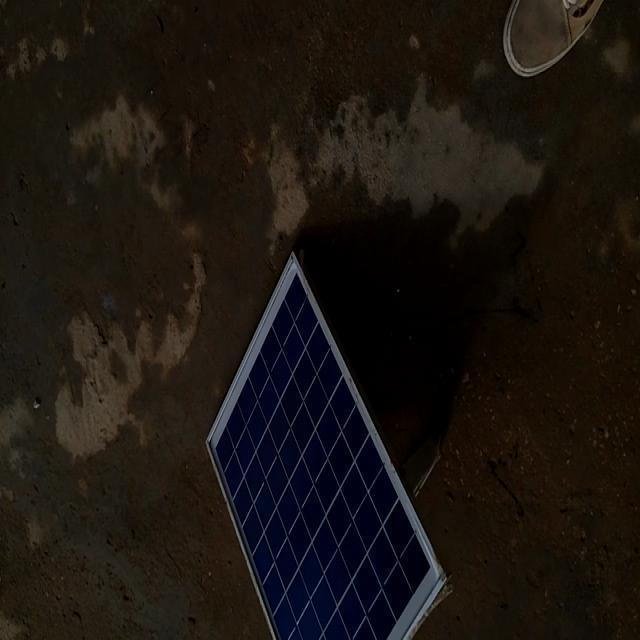Normal Solar Panel: (208, 253, 446, 640)
